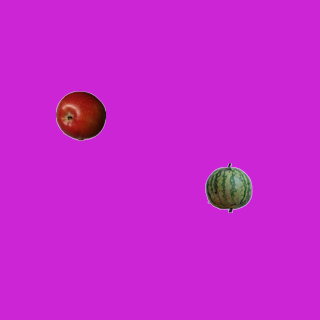Apple Braeburn: (55, 90, 105, 140)
Watermelon: (203, 162, 253, 212)
